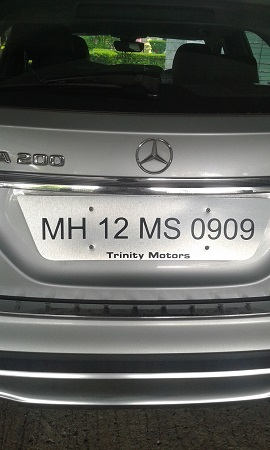licenseplate: (17, 193, 270, 272)
